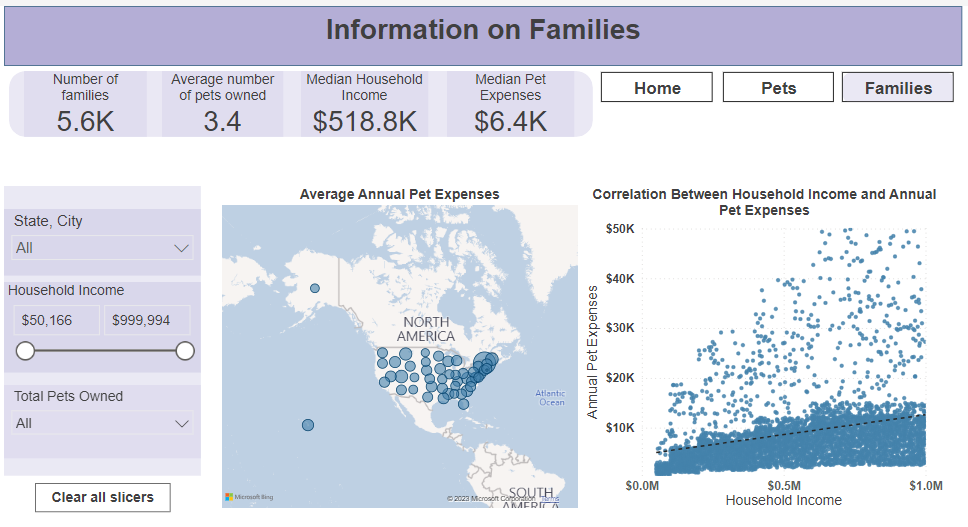

Layout of this report page (visuals, bound fields, positions):
{"tool":"powerbi","page":{"name":"Family","canvas":[1280,720],"ordinal":2},"visuals":[{"type":"shape","box":[0,240,263,386.6],"z":0},{"type":"shape","box":[7.2,87,779.7,88.4],"z":1000},{"type":"scatterChart","title":"Correlation Between Household Income and Annual Pet Expenses","fields":{"X":["Family_Data.Household_Income"],"Y":["Family_Data.Annual_Pet_Expenses"]},"box":[771.7,240,487.2,435.4],"z":2000},{"type":"map","title":"Average Annual Pet Expenses","fields":{"Category":["Family_Data.State"],"Size":["Avg(Family_Data.Annual_Pet_Expenses)"]},"box":[286,240,485.7,435.4],"z":3000},{"type":"shape","box":[0,0,1280.5,80],"z":4000},{"type":"slicer","fields":{"Values":["Family_Data.State","Family_Data.City"]},"box":[0,271.6,263,89.1],"z":5000},{"type":"textbox","box":[398.1,5.7,484.3,67.5],"z":6000},{"type":"actionButton","title":"Pets Info","box":[797.6,87.7,149.5,40.2],"z":7000},{"type":"actionButton","title":"Pets Info","box":[960,87.7,148,40.2],"z":8000},{"type":"actionButton","title":"Families Info","box":[1119.5,87.7,149.5,40.2],"z":9000},{"type":"card","title":"Number of families","fields":{"Values":["CountNonNull(Family_Data.Family_ID)"]},"box":[26.1,87,163.8,88.4],"z":10000},{"type":"card","title":"Average number of pets owned","fields":{"Values":["Avg(Family_Data.Total_Pets)"]},"box":[211.6,87,162.3,88.4],"z":11000},{"type":"card","title":"Median Household Income","fields":{"Values":["Median(Family_Data.Household_Income)"]},"box":[397.1,87,169.6,88.4],"z":12000},{"type":"card","title":"Median Pet Expenses","fields":{"Values":["Median(Family_Data.Annual_Pet_Expenses)"]},"box":[591.3,87,169.6,88.4],"z":13000},{"type":"actionButton","box":[41.7,636.6,181.1,38.8],"z":14000},{"type":"slicer","title":"Household Income","fields":{"Values":["Family_Data.Household_Income"]},"box":[0,369.3,263,120.7],"z":16000},{"type":"slicer","fields":{"Values":["Family_Data.Total_Pets"]},"box":[0,505.9,263,97.7],"z":17000}]}

Visuals, with their boxes on the page's 1280x720 design canvas (x1, y1, x2, y2). These are canvas units, not pixel positions in the 968x527 screenshot, which may show the page scaled, cropped or inside an application window:
shape: {"x1": 0, "y1": 240, "x2": 263, "y2": 627}
shape: {"x1": 7, "y1": 87, "x2": 787, "y2": 175}
"Correlation Between Household Income and Annual Pet Expenses" scatterChart: {"x1": 772, "y1": 240, "x2": 1259, "y2": 675}
"Average Annual Pet Expenses" map: {"x1": 286, "y1": 240, "x2": 772, "y2": 675}
shape: {"x1": 0, "y1": 0, "x2": 1280, "y2": 80}
slicer - Family_Data.State x Family_Data.City: {"x1": 0, "y1": 272, "x2": 263, "y2": 361}
textbox: {"x1": 398, "y1": 6, "x2": 882, "y2": 73}
"Pets Info" actionButton: {"x1": 798, "y1": 88, "x2": 947, "y2": 128}
"Pets Info" actionButton: {"x1": 960, "y1": 88, "x2": 1108, "y2": 128}
"Families Info" actionButton: {"x1": 1120, "y1": 88, "x2": 1269, "y2": 128}
"Number of families" card: {"x1": 26, "y1": 87, "x2": 190, "y2": 175}
"Average number of pets owned" card: {"x1": 212, "y1": 87, "x2": 374, "y2": 175}
"Median Household Income" card: {"x1": 397, "y1": 87, "x2": 567, "y2": 175}
"Median Pet Expenses" card: {"x1": 591, "y1": 87, "x2": 761, "y2": 175}
actionButton: {"x1": 42, "y1": 637, "x2": 223, "y2": 675}
"Household Income" slicer: {"x1": 0, "y1": 369, "x2": 263, "y2": 490}
slicer - Family_Data.Total_Pets: {"x1": 0, "y1": 506, "x2": 263, "y2": 604}
